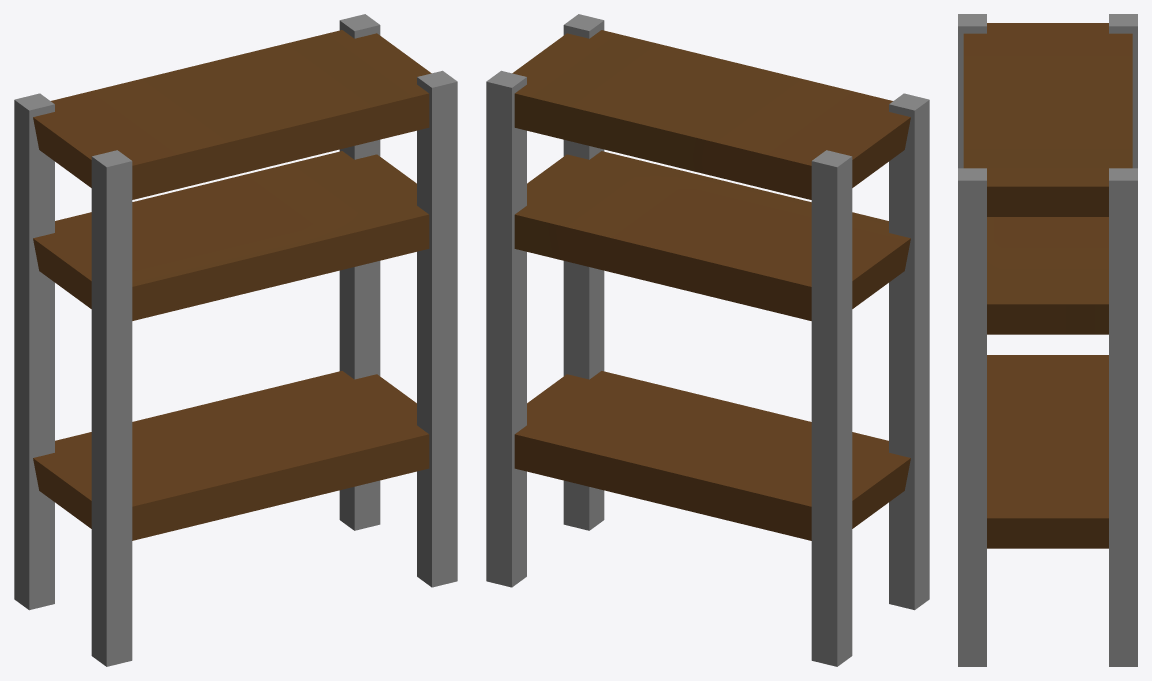
The model's file is rack.fbx.
The picture shows the model from 3 angles, left to right: view 1: azimuth 30°, elevation 25°; view 2: azimuth 150°, elevation 25°; view 3: azimuth 270°, elevation 25°; orthographic projection. The views are drawn at different scales.
Parts seen in each view (by area): view 1: rack; view 2: rack; view 3: rack.
Part boxes in pixels (x1,y1,x2,y2): rack: [14, 14, 457, 666]; rack: [486, 14, 929, 666]; rack: [958, 14, 1137, 666].
Bounding box in the file's own units: 0.4079 × 0.5547 × 0.186.
